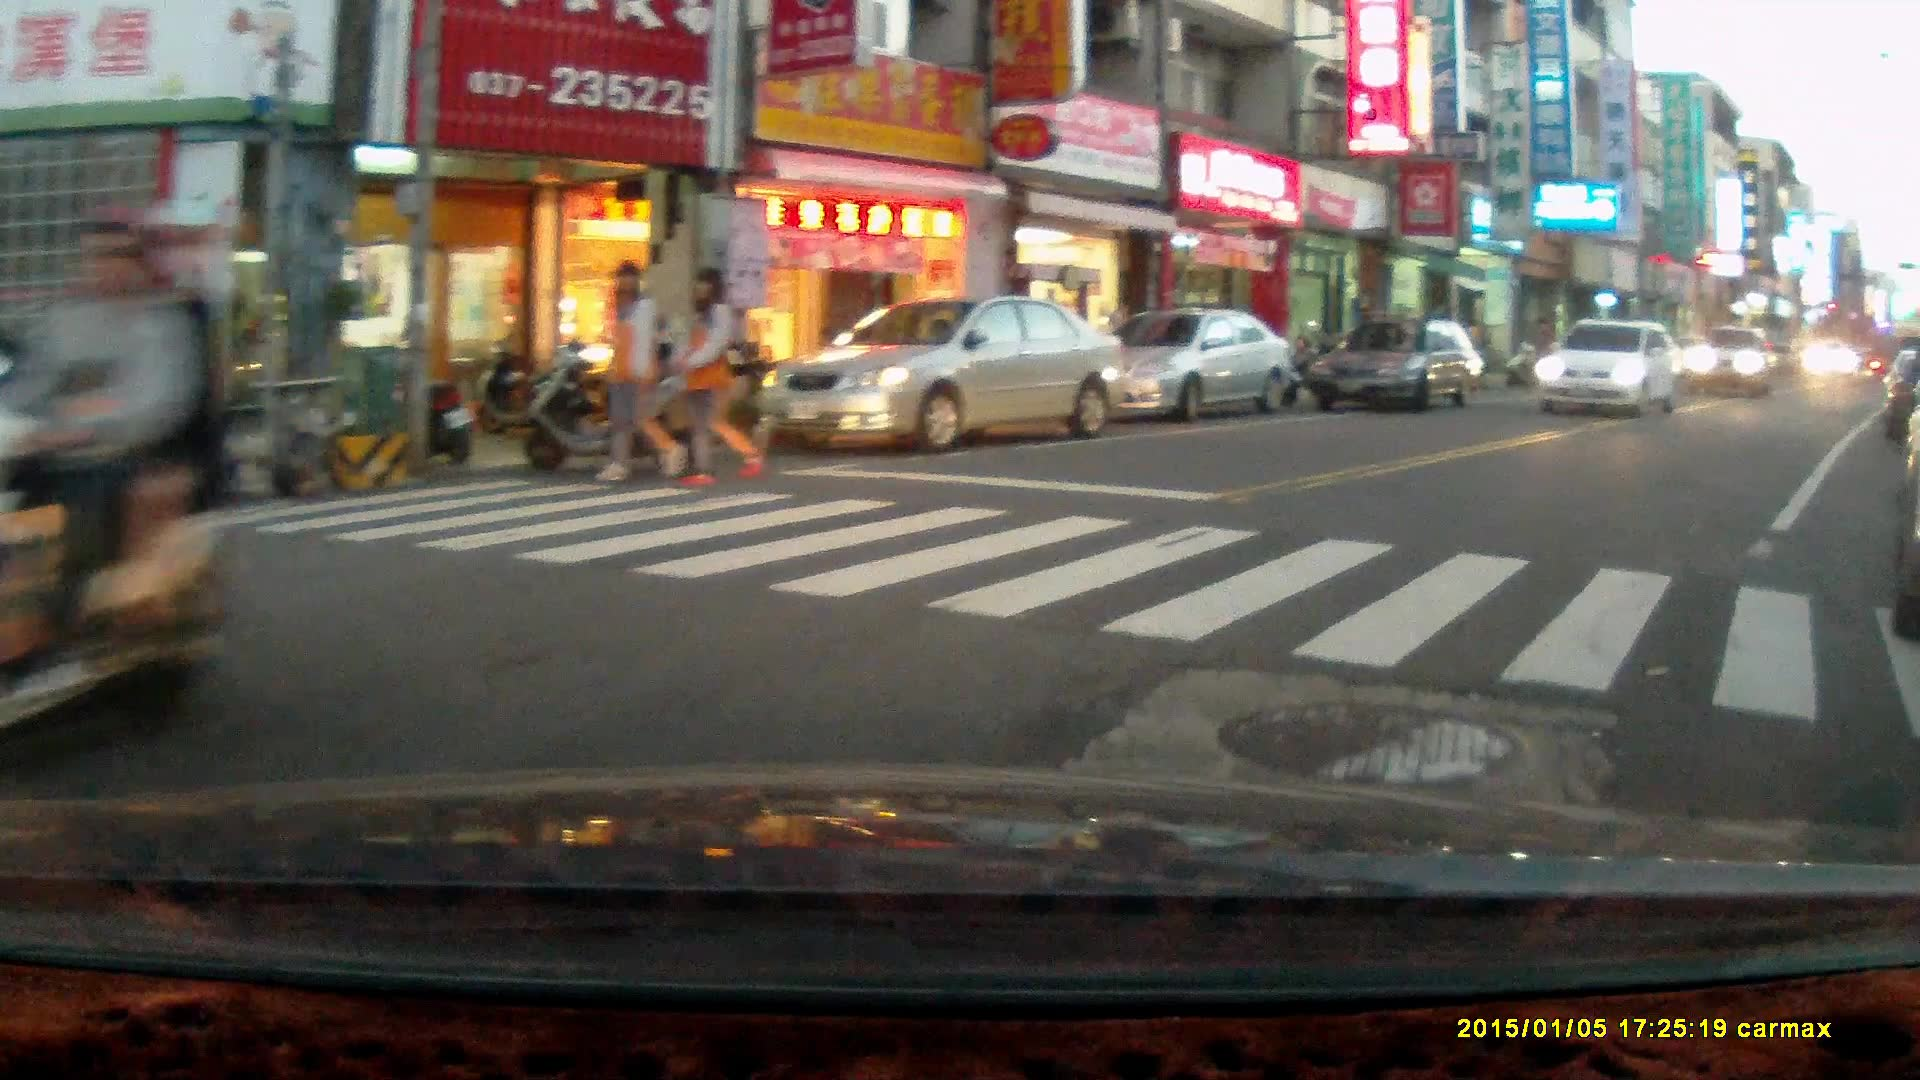pedestrian: (587, 261, 688, 483), (670, 263, 762, 487)
rider: (0, 194, 235, 782)
vehicle: (760, 296, 1129, 449), (1063, 311, 1299, 417), (1305, 317, 1491, 409), (1533, 318, 1685, 410), (1678, 322, 1784, 399), (1799, 333, 1859, 383)
